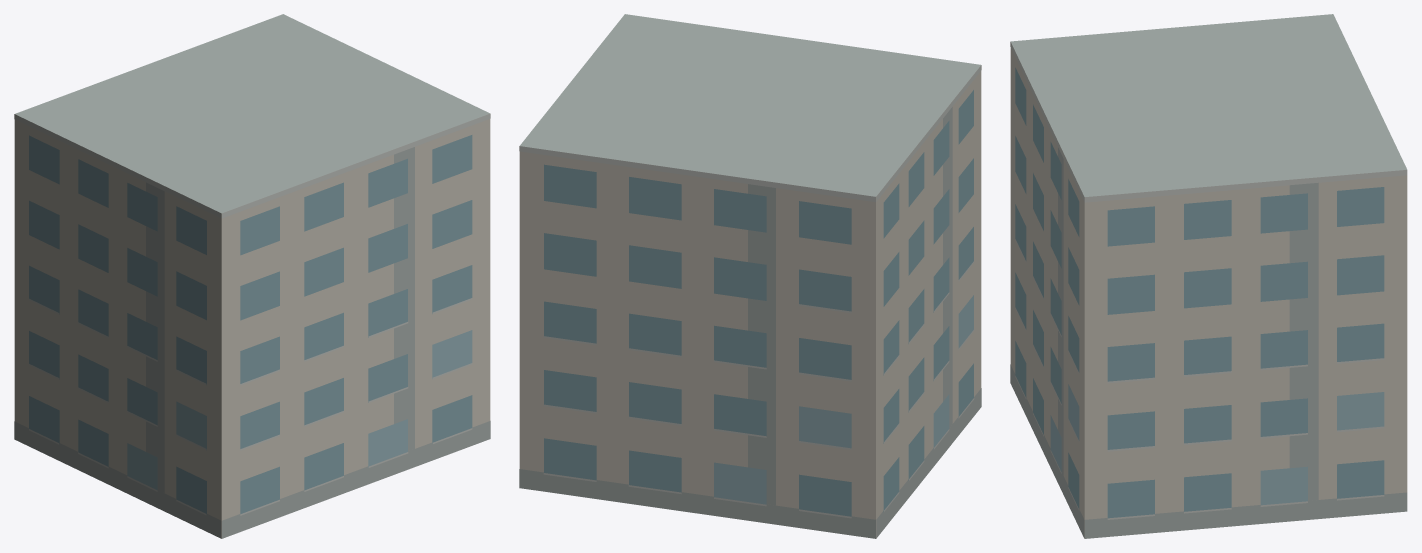
File: residential-36af975d-857e-417e-a3c1-d80aa518cb67.glb
The picture shows the model from 3 angles, left to right: view 1: azimuth 30°, elevation 25°; view 2: azimuth 150°, elevation 25°; view 3: azimuth 270°, elevation 25°; orthographic projection. The views are drawn at different scales.
Parts seen in each view (by area): view 1: residential-36af975d-857e-417e-a3c1-d80aa518cb67.tmp; view 2: residential-36af975d-857e-417e-a3c1-d80aa518cb67.tmp; view 3: residential-36af975d-857e-417e-a3c1-d80aa518cb67.tmp.
Part boxes in pixels (x1,y1,x2,y2): residential-36af975d-857e-417e-a3c1-d80aa518cb67.tmp: (14,14,490,538); residential-36af975d-857e-417e-a3c1-d80aa518cb67.tmp: (519,14,981,538); residential-36af975d-857e-417e-a3c1-d80aa518cb67.tmp: (1010,14,1407,538).
Size of the model in its own units: 17.54 by 15.25 by 16.06.
